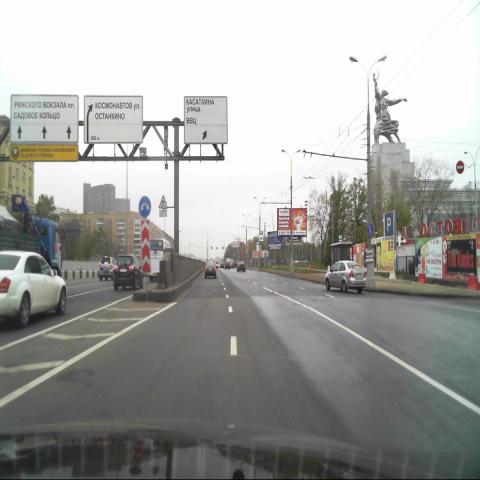1_15: (159, 194, 167, 208)
3_1: (456, 160, 464, 174)
3_29: (366, 222, 374, 234)
4_2_3: (138, 196, 151, 217)
6_4: (384, 212, 394, 235)
